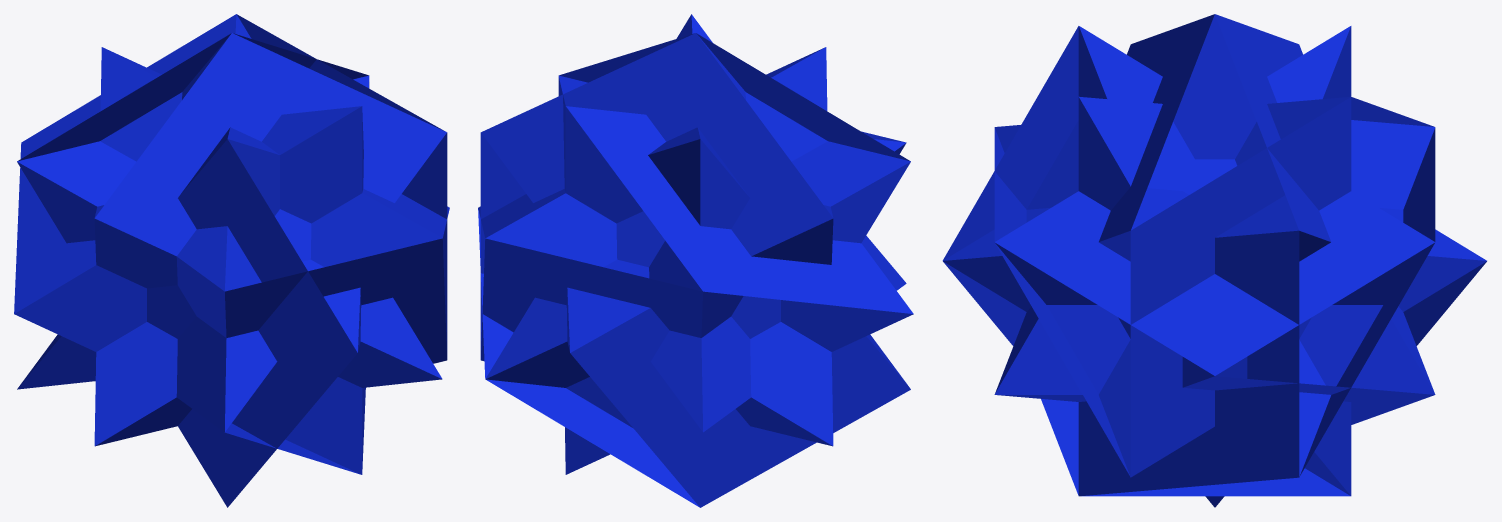
Rendered from Iceprojectile.FBX.
3 views of the same model, side by side, from view 1: azimuth 30°, elevation 25°; view 2: azimuth 150°, elevation 25°; view 3: azimuth 270°, elevation 25° (orthographic). The views are drawn at different scales.
Parts seen in each view (by area): view 1: Hedra001; view 2: Hedra001; view 3: Hedra001.
Boxes of the visible parts, x1=… form: Hedra001: x1=14, y1=14, x2=449, y2=507; Hedra001: x1=478, y1=14, x2=913, y2=507; Hedra001: x1=942, y1=14, x2=1486, y2=507.
Bounding box in the file's own units: 0.0717 × 0.0717 × 0.0717.
